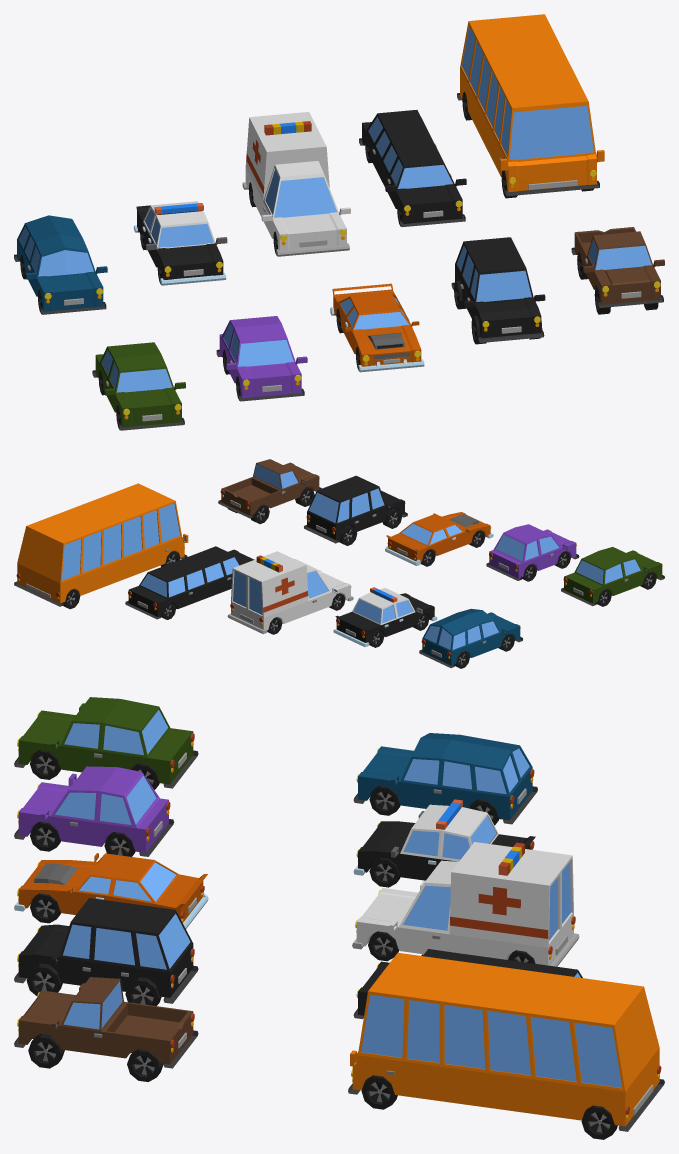
File: 10LPCars.fbx
The picture shows the model from 3 angles, top to bottom: view 1: azimuth 30°, elevation 25°; view 2: azimuth 150°, elevation 25°; view 3: azimuth 270°, elevation 25°; orthographic projection. The views are drawn at different scales.
Visible parts, largest first — view 1: Cube.001, Cube.005, Cube.003, Cube.002, Cube.007, Cube.009, Cube, Cube.006, Cube.004, Cube.008; view 2: Cube.001, Cube.005, Cube.003, Cube.002, Cube.007, Cube.009, Cube, Cube.006, Cube.004, Cube.008; view 3: Cube.001, Cube.005, Cube.002, Cube.007, Cube, Cube.009, Cube.008, Cube.004, Cube.006, Cube.003.
Boxes of the visible parts, x1,y1,x2,y2 form: Cube.001: (457, 14, 604, 198); Cube.005: (242, 112, 350, 256); Cube.003: (359, 110, 466, 227); Cube.002: (451, 237, 545, 344); Cube.007: (14, 215, 107, 314); Cube.009: (92, 342, 185, 430); Cube: (571, 227, 664, 314); Cube.006: (133, 201, 227, 285); Cube.004: (330, 283, 424, 372); Cube.008: (216, 316, 307, 401); Cube.001: (14, 483, 188, 609); Cube.005: (227, 551, 353, 634); Cube.003: (125, 546, 254, 619); Cube.002: (304, 475, 407, 545); Cube.007: (419, 608, 522, 668); Cube.009: (561, 547, 664, 606); Cube: (218, 459, 321, 523); Cube.006: (333, 587, 437, 647); Cube.004: (385, 512, 493, 566); Cube.008: (486, 524, 579, 581); Cube.001: (348, 952, 664, 1139); Cube.005: (352, 842, 579, 966); Cube.002: (14, 898, 198, 1005); Cube.007: (353, 733, 537, 825); Cube: (14, 977, 198, 1081); Cube.009: (14, 697, 198, 789); Cube.008: (14, 766, 174, 856); Cube.004: (14, 853, 208, 928); Cube.006: (353, 799, 535, 887); Cube.003: (353, 949, 582, 1019).
Bounding box in the file's own units: 2236 × 301 × 1534.
1 material, 1 textured.
